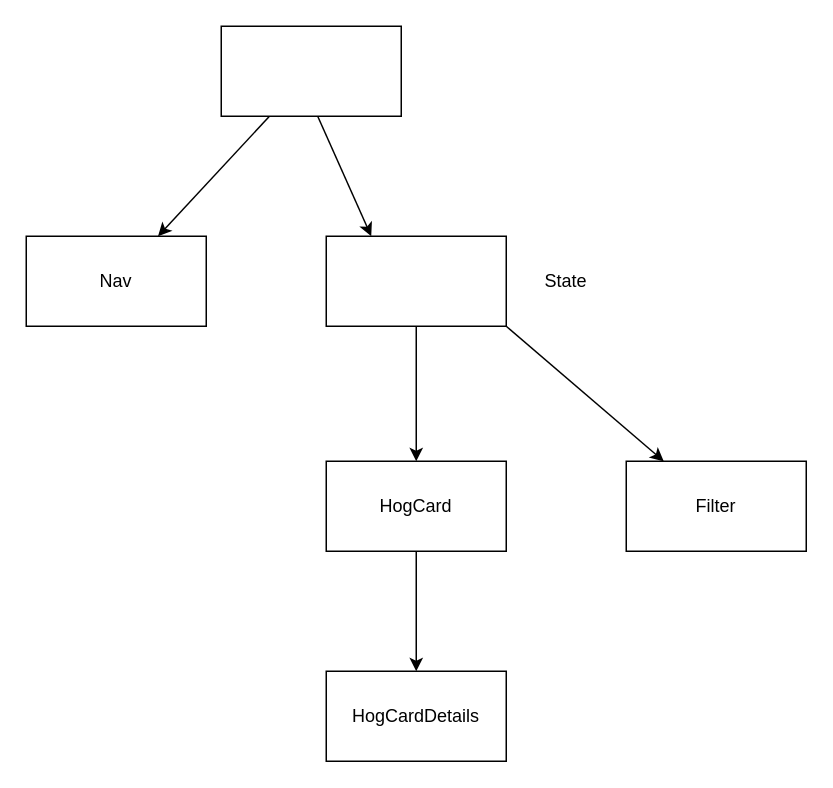
This 833x788 diagram has some shape labels left out. Here are the shapes that lost their labels. From the top down, the centre of each, then its label:
At (x=310, y=70): "App".
At (x=415, y=280): "HogContainer".
